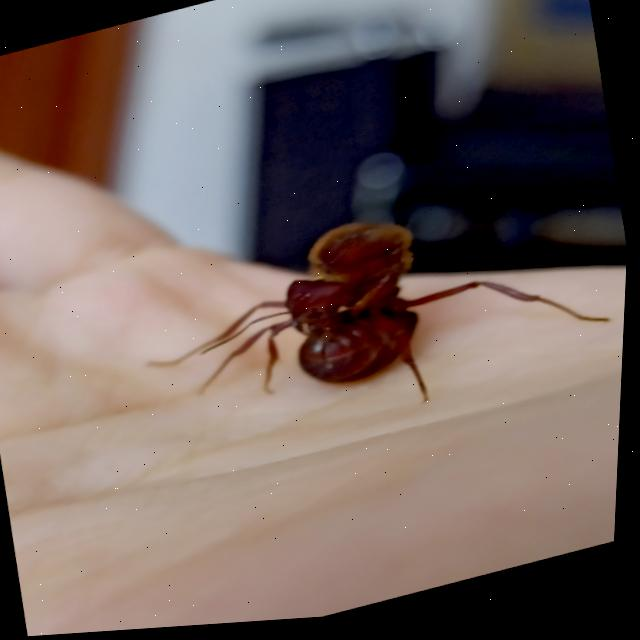Dead-Female-Dealate: (130, 168, 626, 474)
